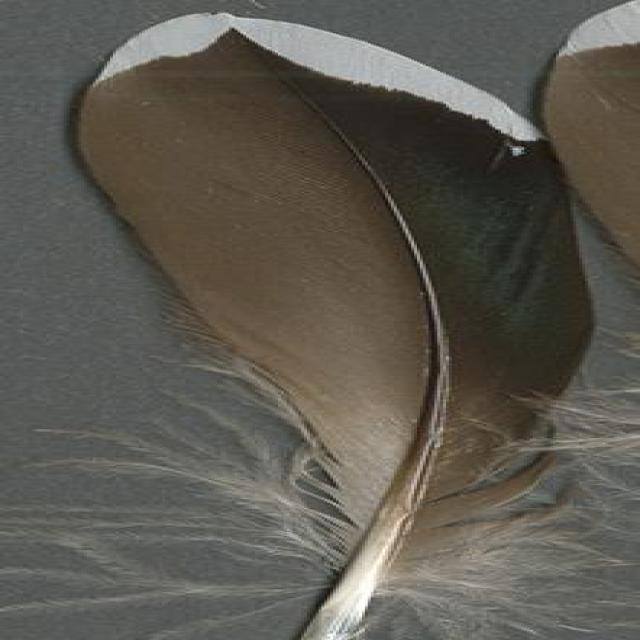feather: (14, 7, 602, 640)
